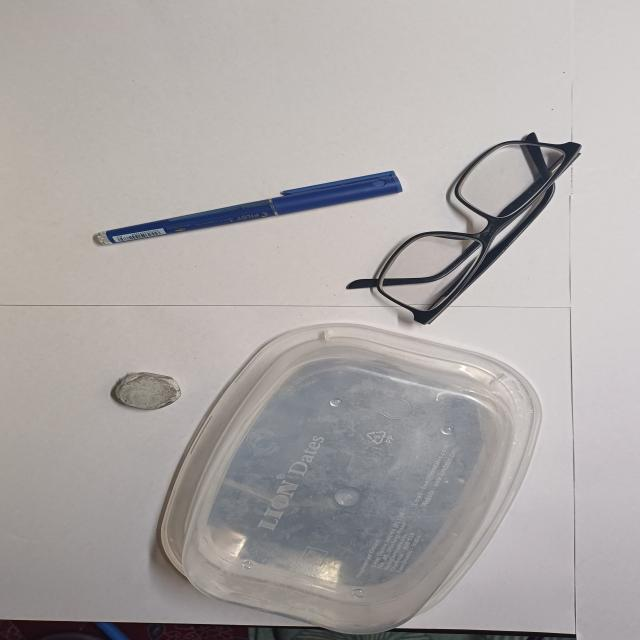Eraser-NonBio: (108, 370, 182, 411)
Pen-NonBio: (92, 168, 403, 247)
Plastic-NonBio: (156, 321, 544, 633)
Spectacles-NonBio: (345, 128, 585, 326)
